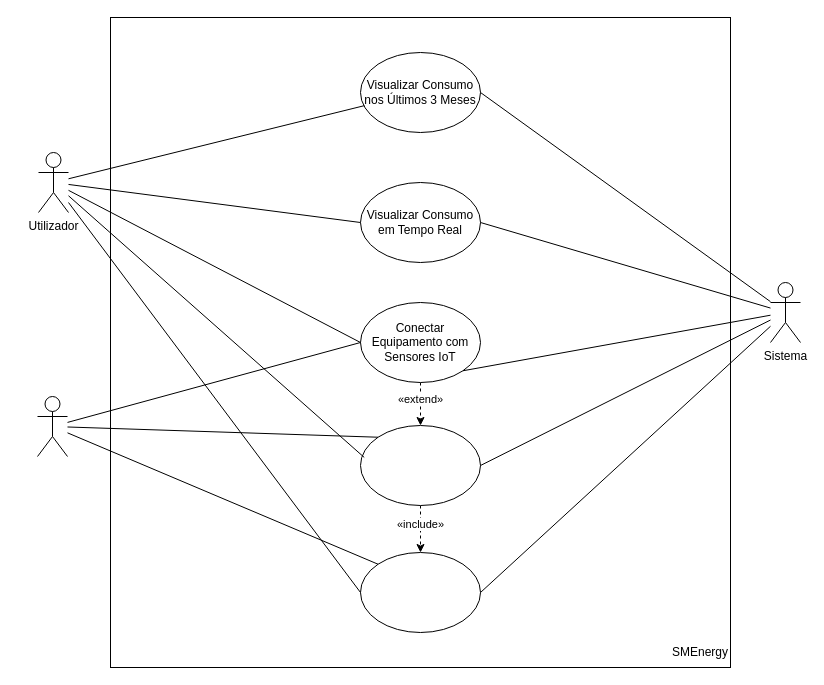
Some shapes in this 824 by 685 pixel diagram are drawn without their labels. The centre of each missing label's shape, as x and y in pixels:
"Editar Equipamento" belongs at [420,465].
"Equipamento" belongs at [52,426].
"Remover Equipamento" belongs at [420,592].
